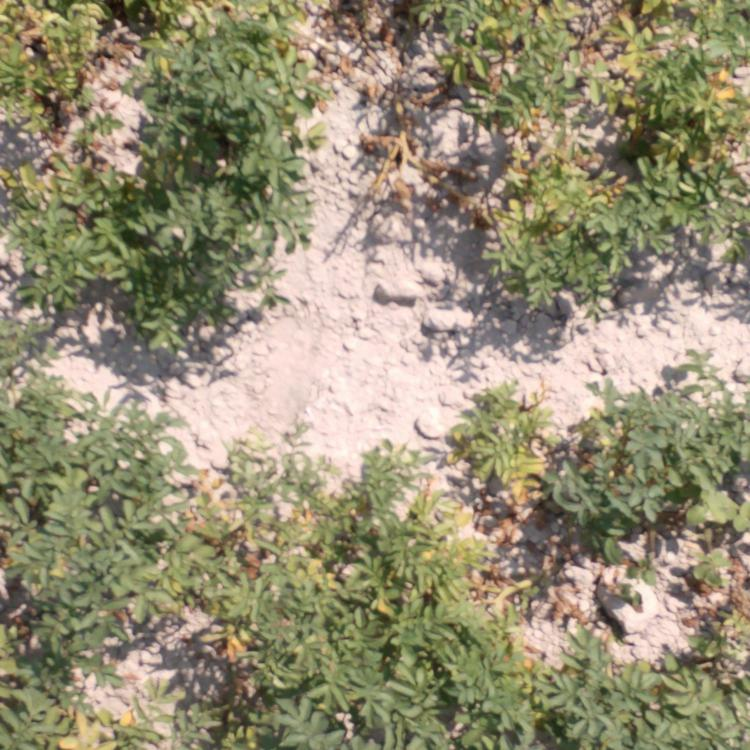healthy: (1, 370, 156, 641), (126, 167, 308, 354), (553, 639, 742, 750), (629, 369, 750, 516), (163, 105, 331, 163), (561, 517, 662, 574)
stressed: (162, 458, 444, 587), (615, 1, 747, 270), (452, 378, 618, 512), (1, 1, 151, 144), (488, 140, 615, 305), (434, 1, 598, 128), (461, 533, 546, 750), (1, 152, 118, 307), (158, 1, 343, 97), (165, 599, 270, 750), (1, 653, 160, 748), (362, 119, 463, 221), (680, 519, 749, 642)
